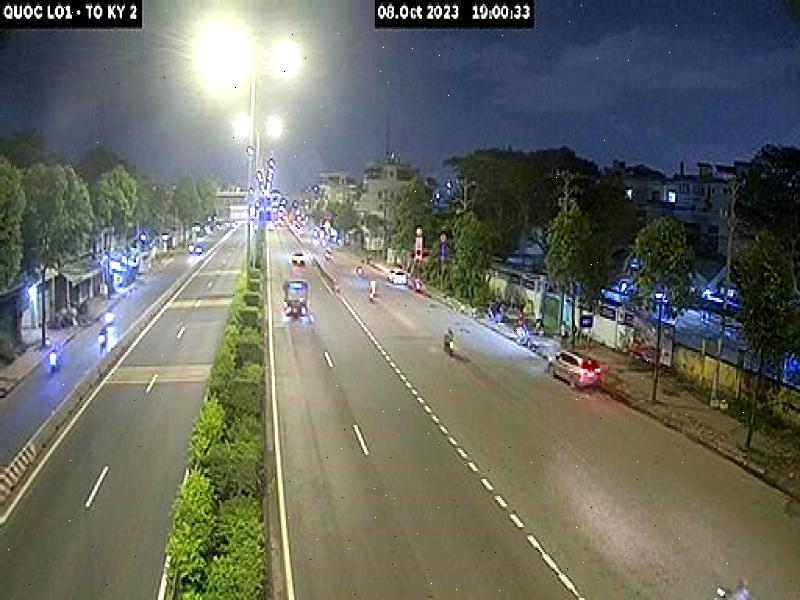car: (548, 350, 607, 398)
